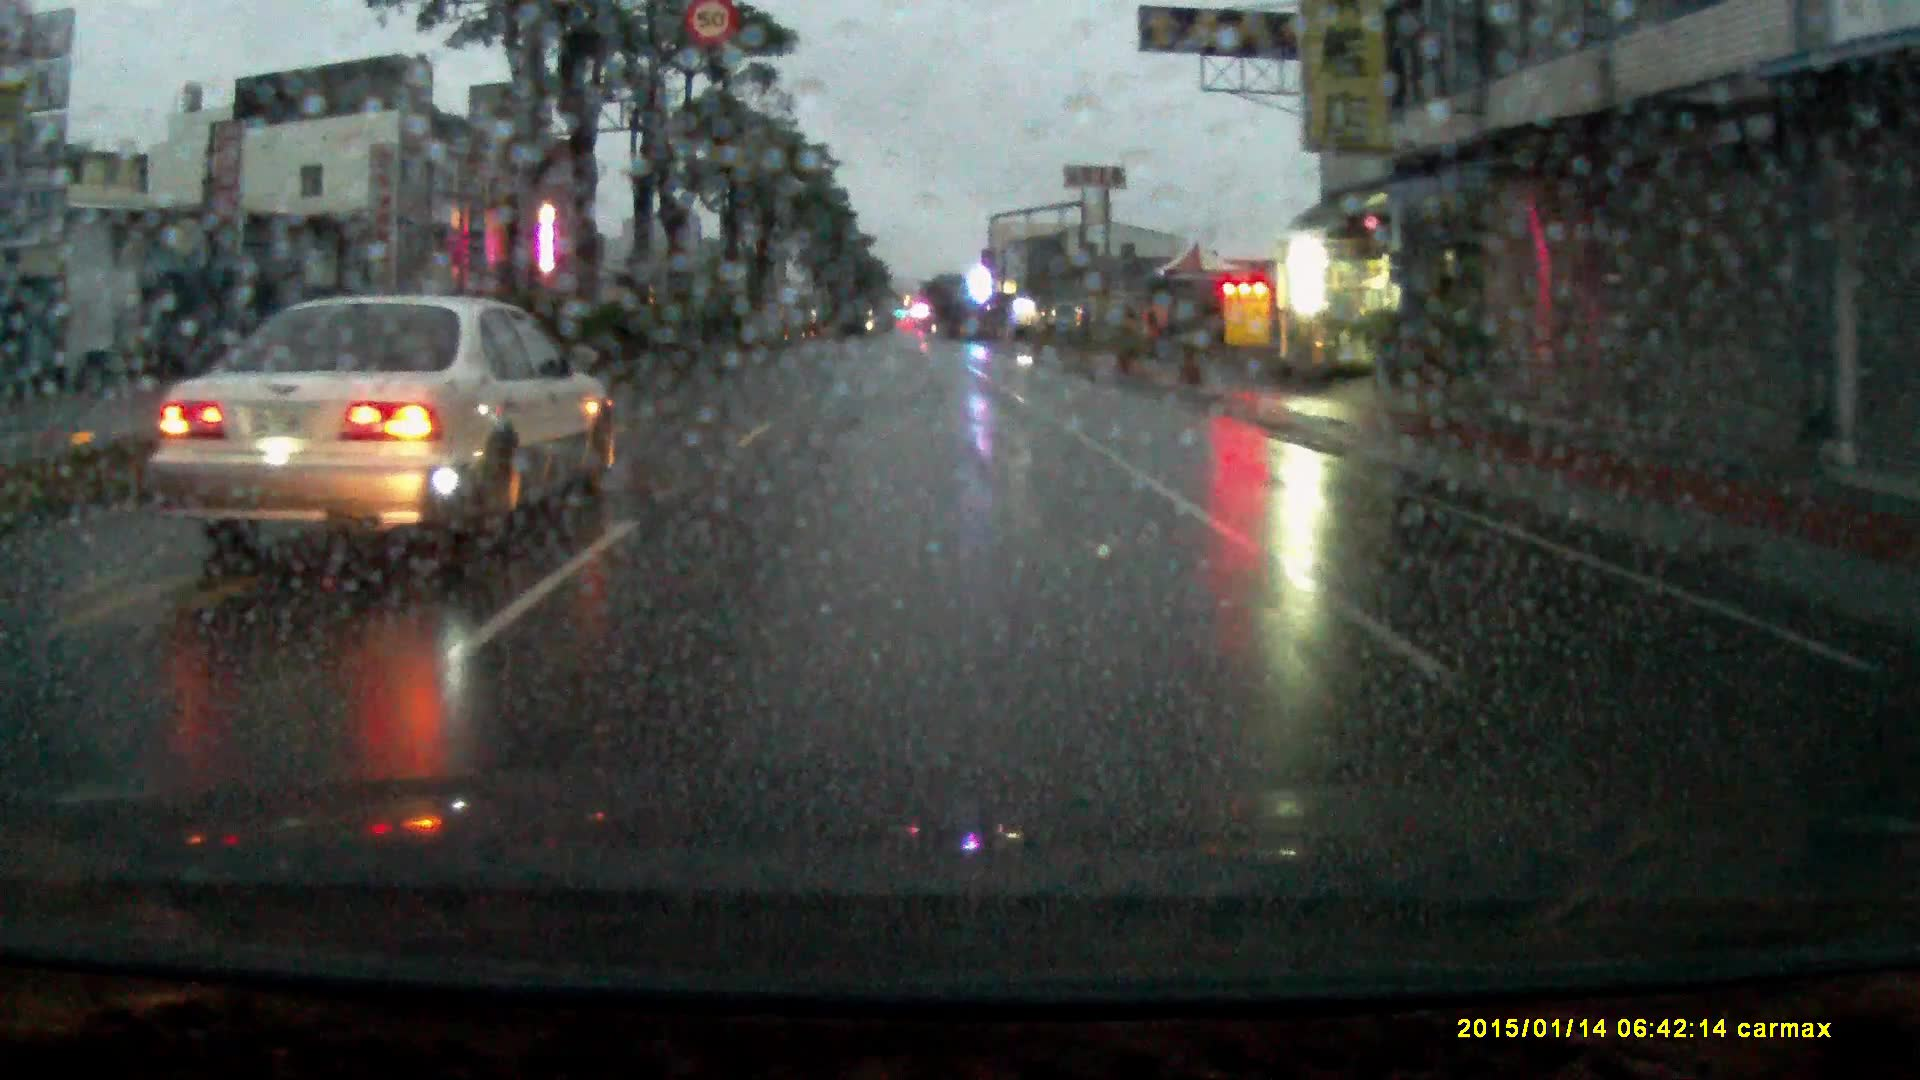vehicle: (150, 289, 621, 562)
